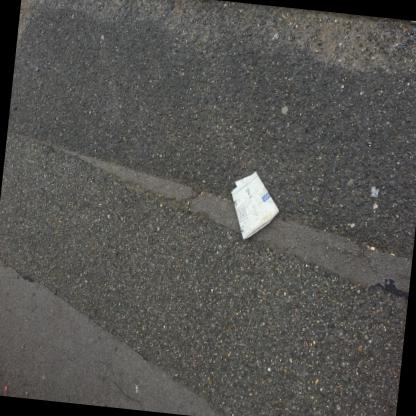Paper cup: (230, 171, 279, 239)
